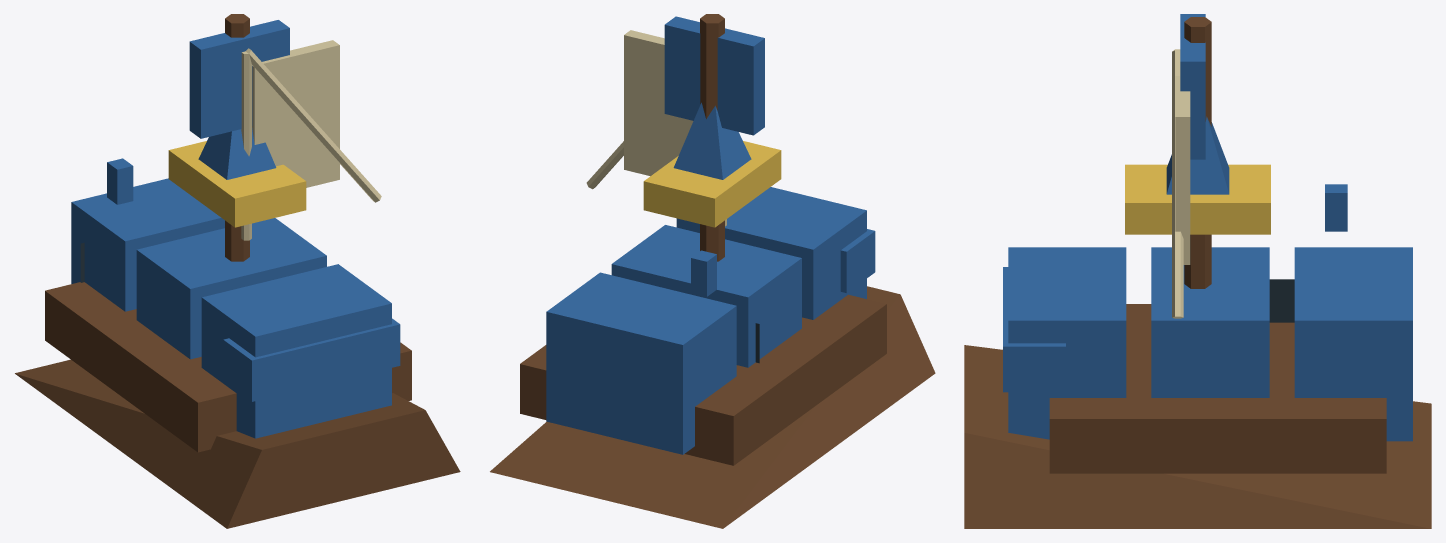
Rendered from trade-ship.obj.
The picture shows the model from 3 angles, left to right: view 1: azimuth 30°, elevation 25°; view 2: azimuth 150°, elevation 25°; view 3: azimuth 270°, elevation 25°; orthographic projection. The views are drawn at different scales.
Visible parts, largest first — view 1: ship; view 2: ship; view 3: ship.
Part boxes in pixels (x1=…): ship: x1=15, y1=14, x2=460, y2=528; ship: x1=490, y1=14, x2=935, y2=528; ship: x1=964, y1=14, x2=1431, y2=528.
Size of the model in its own units: 1.27 by 1.95 by 1.86.
